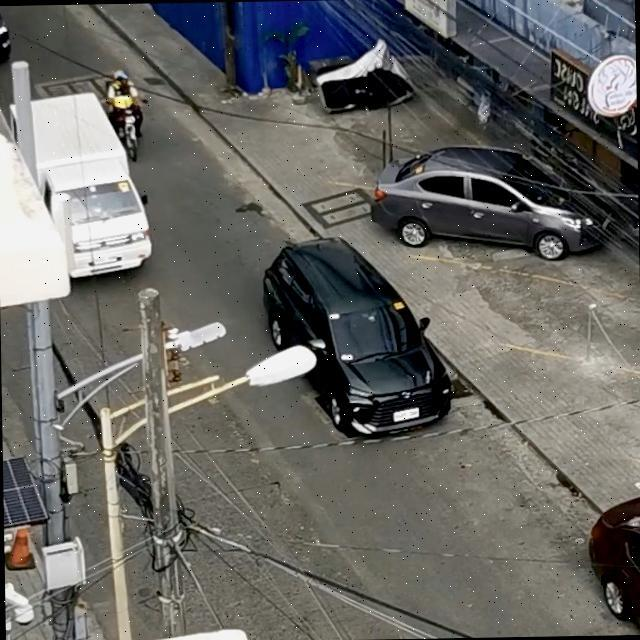Truck: (0, 61, 172, 314)
